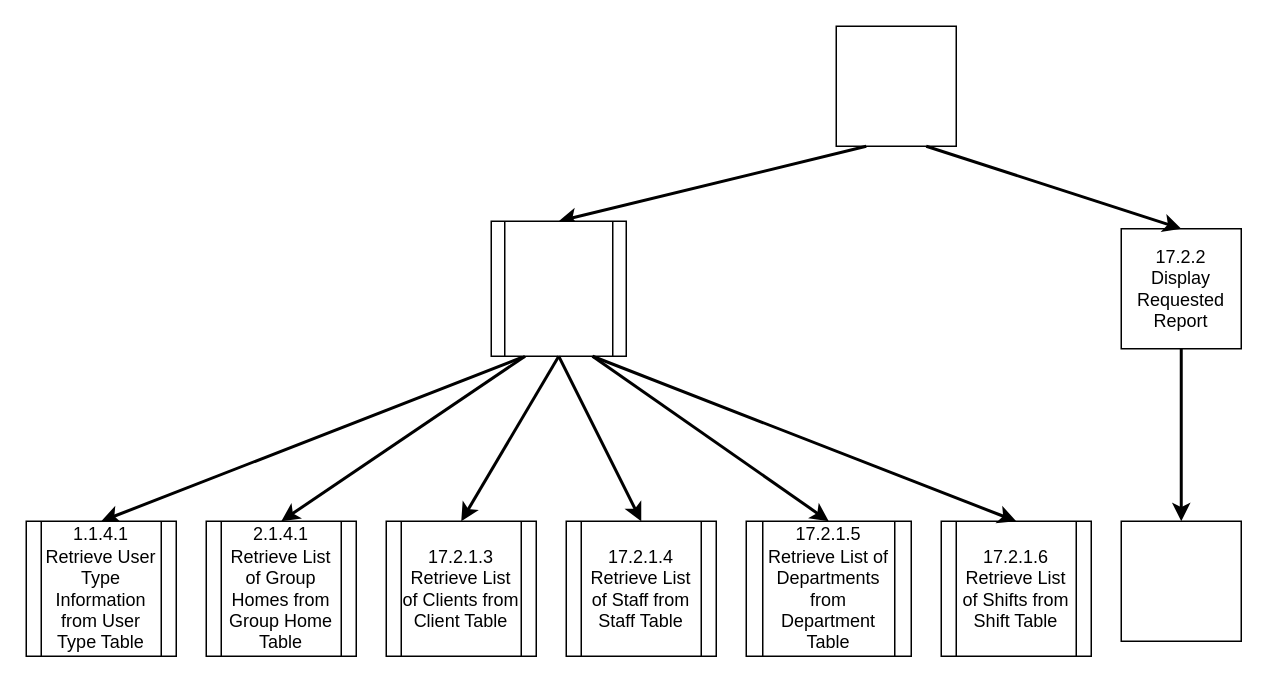
The diagram is 1268 pixels wide and 683 high, and some of its shapes have lost their labels. The box of each missing label's shape, as (x1, y1, x2, y2) in pixels:
1.1.4 Get Required Information from Database: (490, 220, 626, 356)
17.2 Generate Requested Report: (835, 25, 956, 146)
17.2.2.1 Sort Data by User Criteria: (1120, 520, 1241, 641)
